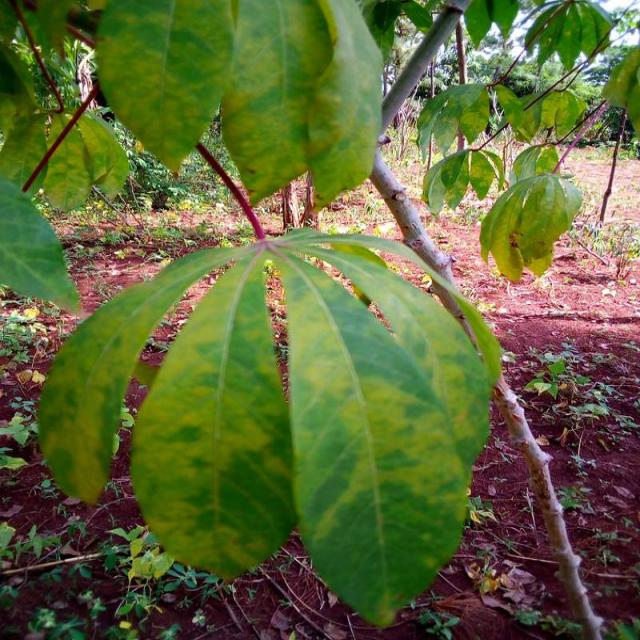cassava leaf: (38, 227, 496, 627), (271, 234, 492, 627), (129, 244, 297, 582), (36, 242, 250, 506), (219, 0, 384, 211), (93, 0, 234, 175), (478, 170, 582, 282)
